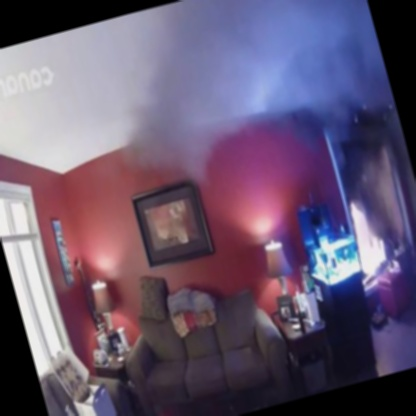smoke: (97, 0, 399, 191)
